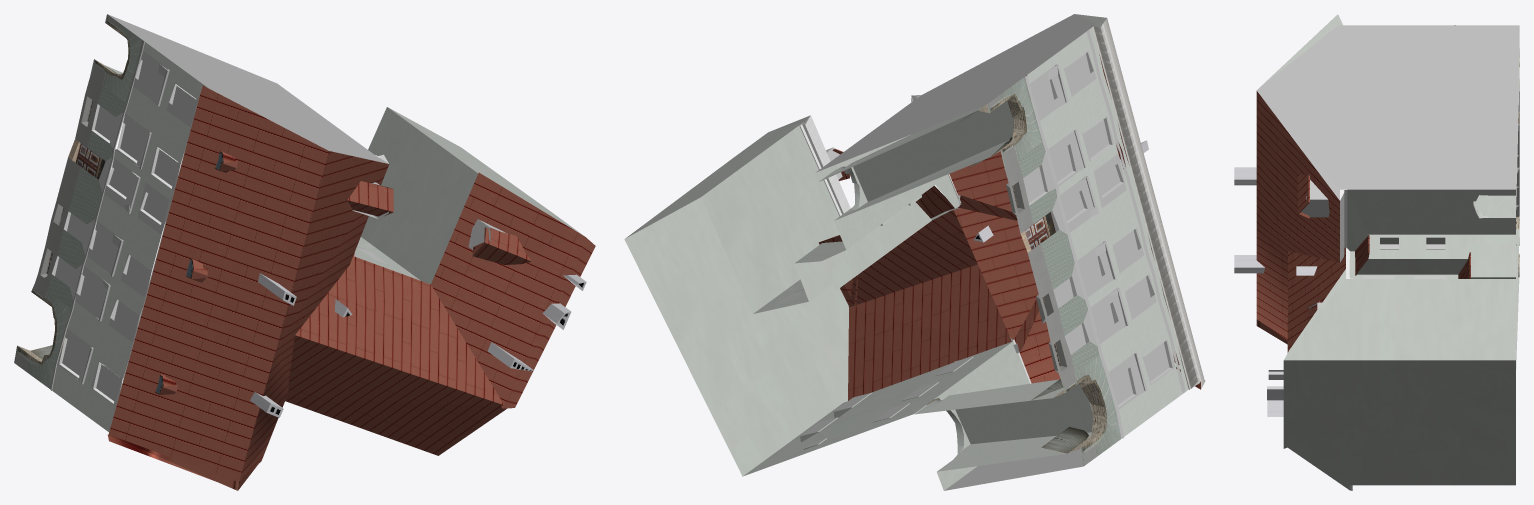
The model's file is Lai_28-origo.obj.
3 views of the same model, side by side, from view 1: azimuth 30°, elevation 25°; view 2: azimuth 150°, elevation 25°; view 3: azimuth 270°, elevation 25° (orthographic). The views are drawn at different scales.
Parts seen in each view (by area): view 1: Lai_28; view 2: Lai_28; view 3: Lai_28.
Part boxes in pixels (x1,y1,x2,y2): Lai_28: [14, 14, 595, 490]; Lai_28: [624, 14, 1205, 490]; Lai_28: [1234, 14, 1519, 490].
Bounding box in the file's own units: 28.56 × 26 × 17.97.
